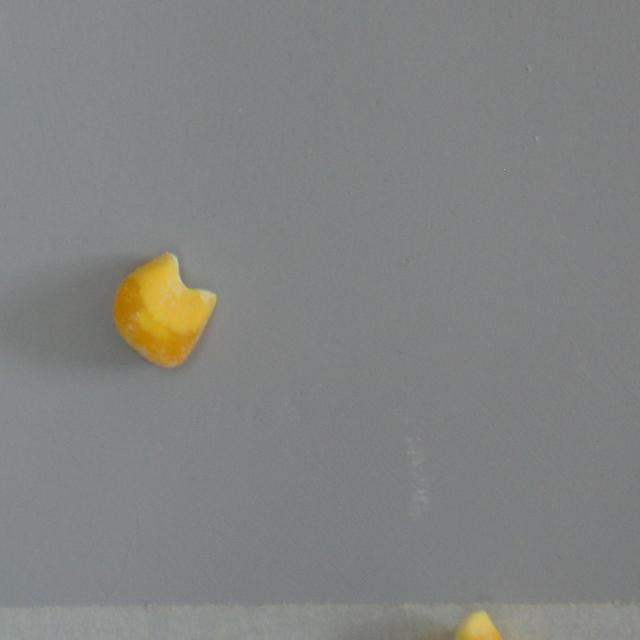no_canjicado: (112, 250, 216, 369)
